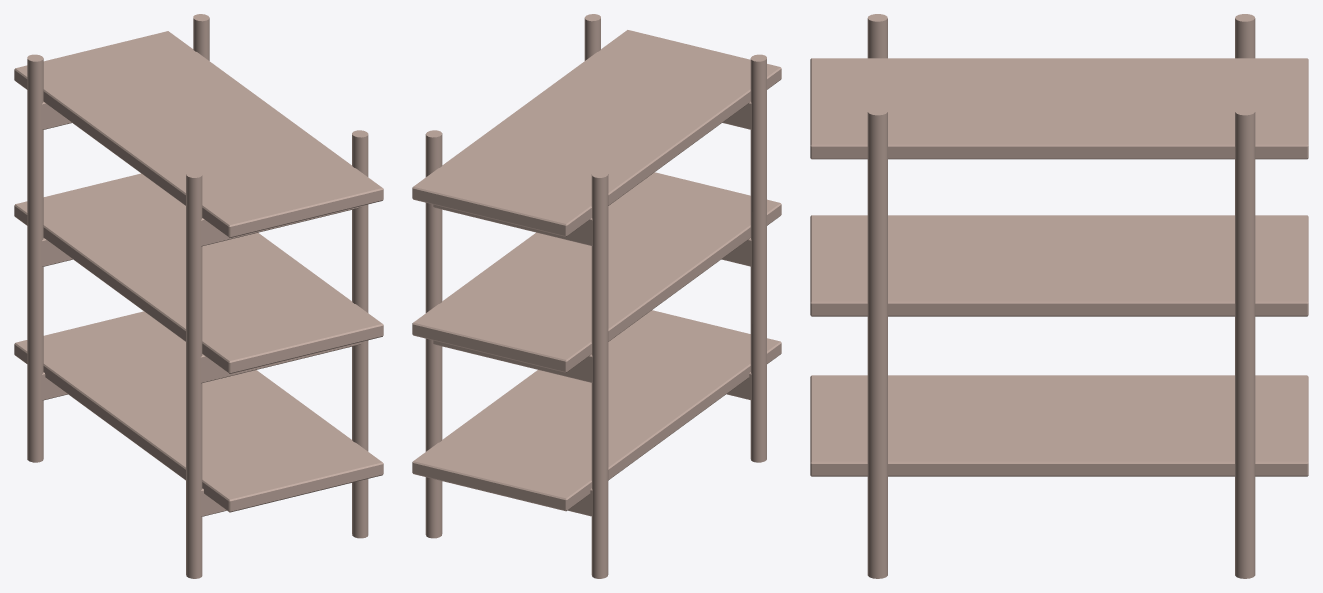
File: Shelf.fbx
3 renders of one model, left to right at view 1: azimuth 30°, elevation 25°; view 2: azimuth 150°, elevation 25°; view 3: azimuth 270°, elevation 25°, orthographic. The views are drawn at different scales.
Visible parts, largest first — view 1: Shelf2; view 2: Shelf2; view 3: Shelf2.
Boxes of the visible parts, box(x1,y1,x2,y2) form: Shelf2: box(14, 14, 383, 578); Shelf2: box(412, 14, 781, 578); Shelf2: box(810, 14, 1308, 578).
Size of the model in its own units: 1.41 by 3.01 by 2.94.
